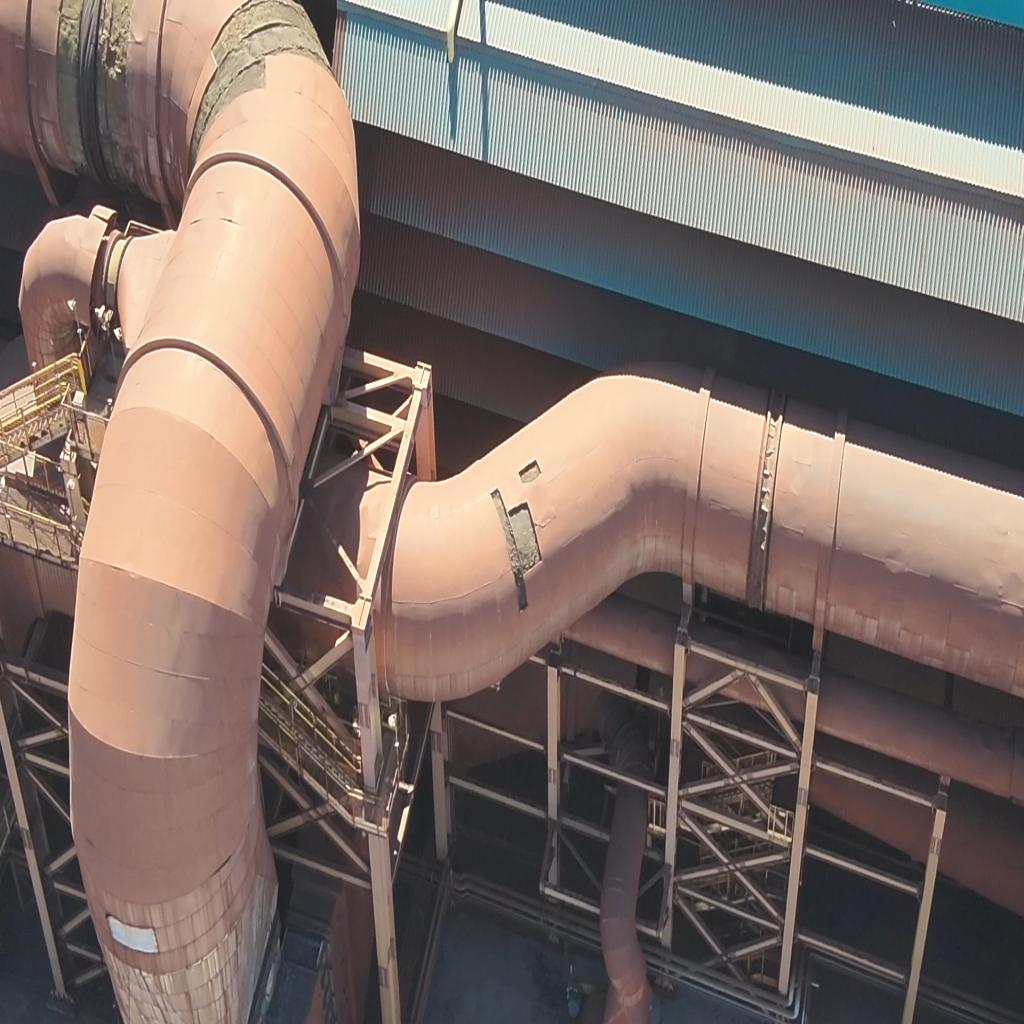Failures: (201, 0, 337, 119), (100, 3, 138, 185), (54, 0, 89, 188), (490, 488, 538, 613), (519, 442, 543, 494)
